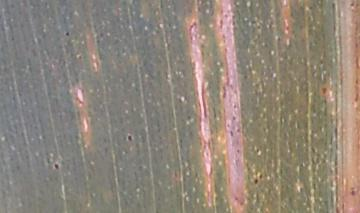tarspot: (122, 131, 139, 145), (247, 176, 261, 187), (51, 160, 62, 172), (62, 28, 72, 39)
